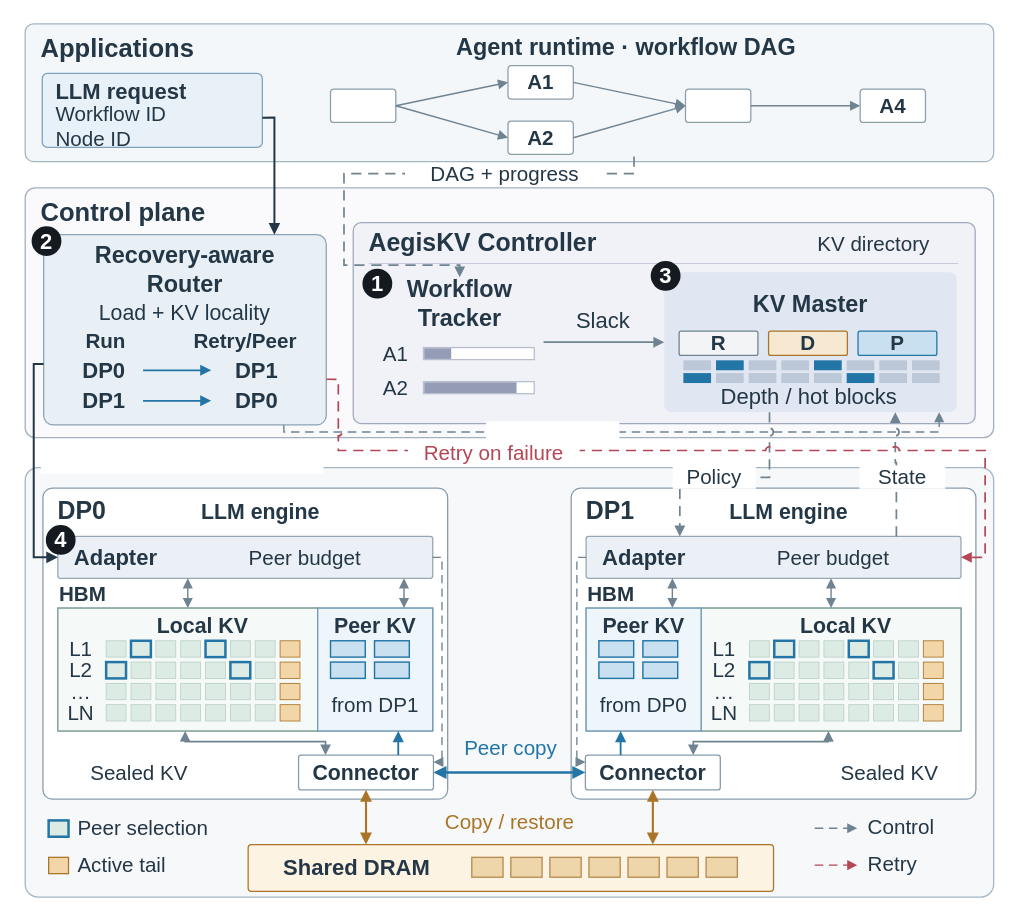
This 1018x919 diagram has some shape labels left out. Here are the shapes that lost their labels. From the top down, the centre of each, then its label:
[363,105]: A0
[718,105]: A3
[552,432]: Target DP
[181,458]: Inference engines
